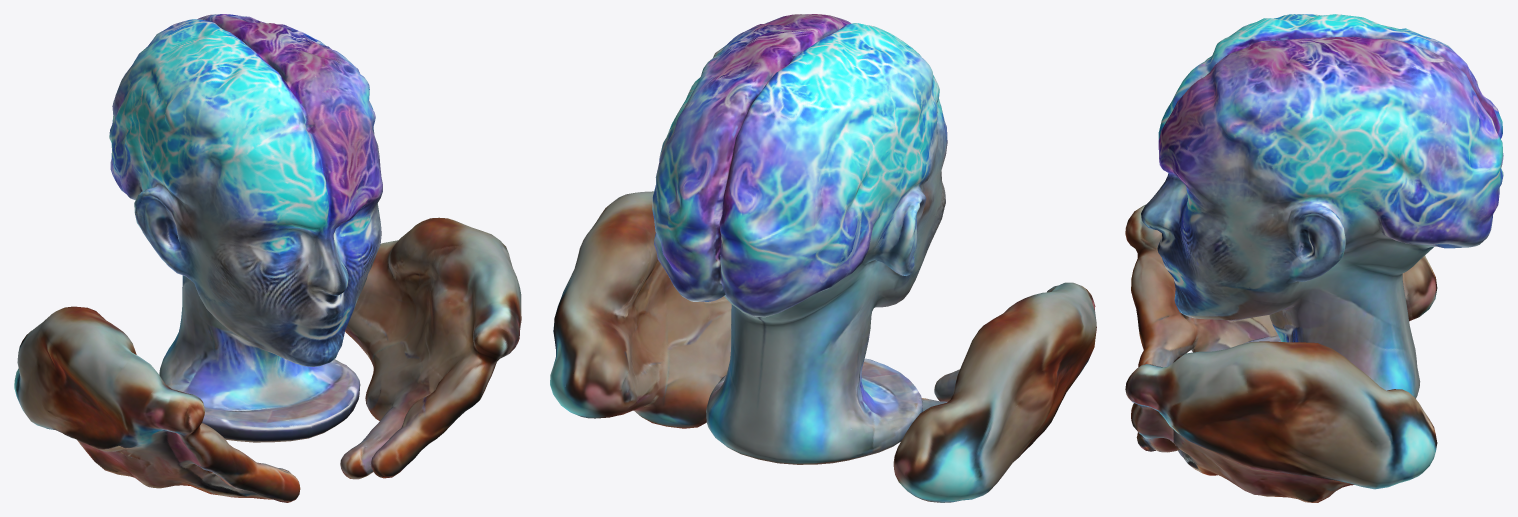
Rendered from ShirtAI.glb.
3 views of the same model, side by side, from view 1: azimuth 30°, elevation 25°; view 2: azimuth 150°, elevation 25°; view 3: azimuth 270°, elevation 25° (orthographic). The views are drawn at different scales.
Parts seen in each view (by area): view 1: file1; view 2: file1; view 3: file1.
Boxes of the visible parts, <box> form: file1: <box>14,14,521,502</box>; file1: <box>550,14,1096,502</box>; file1: <box>1125,14,1503,502</box>.
Bounding box in the file's own units: 2 × 1.74 × 1.46.
1 material, 1 textured.
